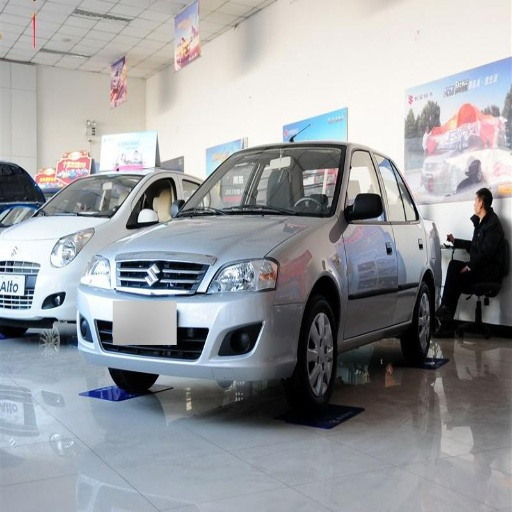front_bumper: (77, 256, 306, 400)
front_glass: (151, 150, 344, 219), (36, 181, 122, 217)
front_left_door: (344, 147, 397, 338)
